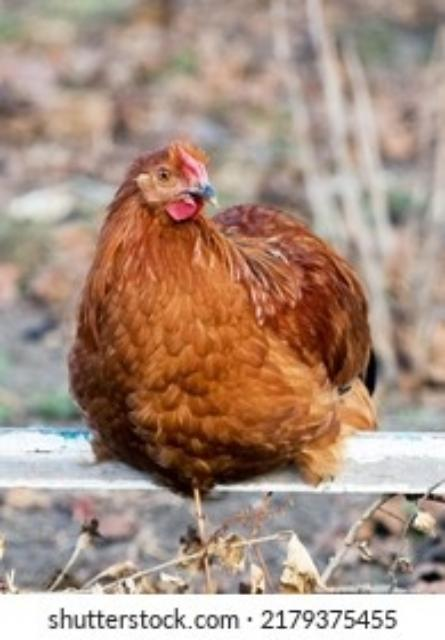Chicken: (70, 139, 375, 501)
